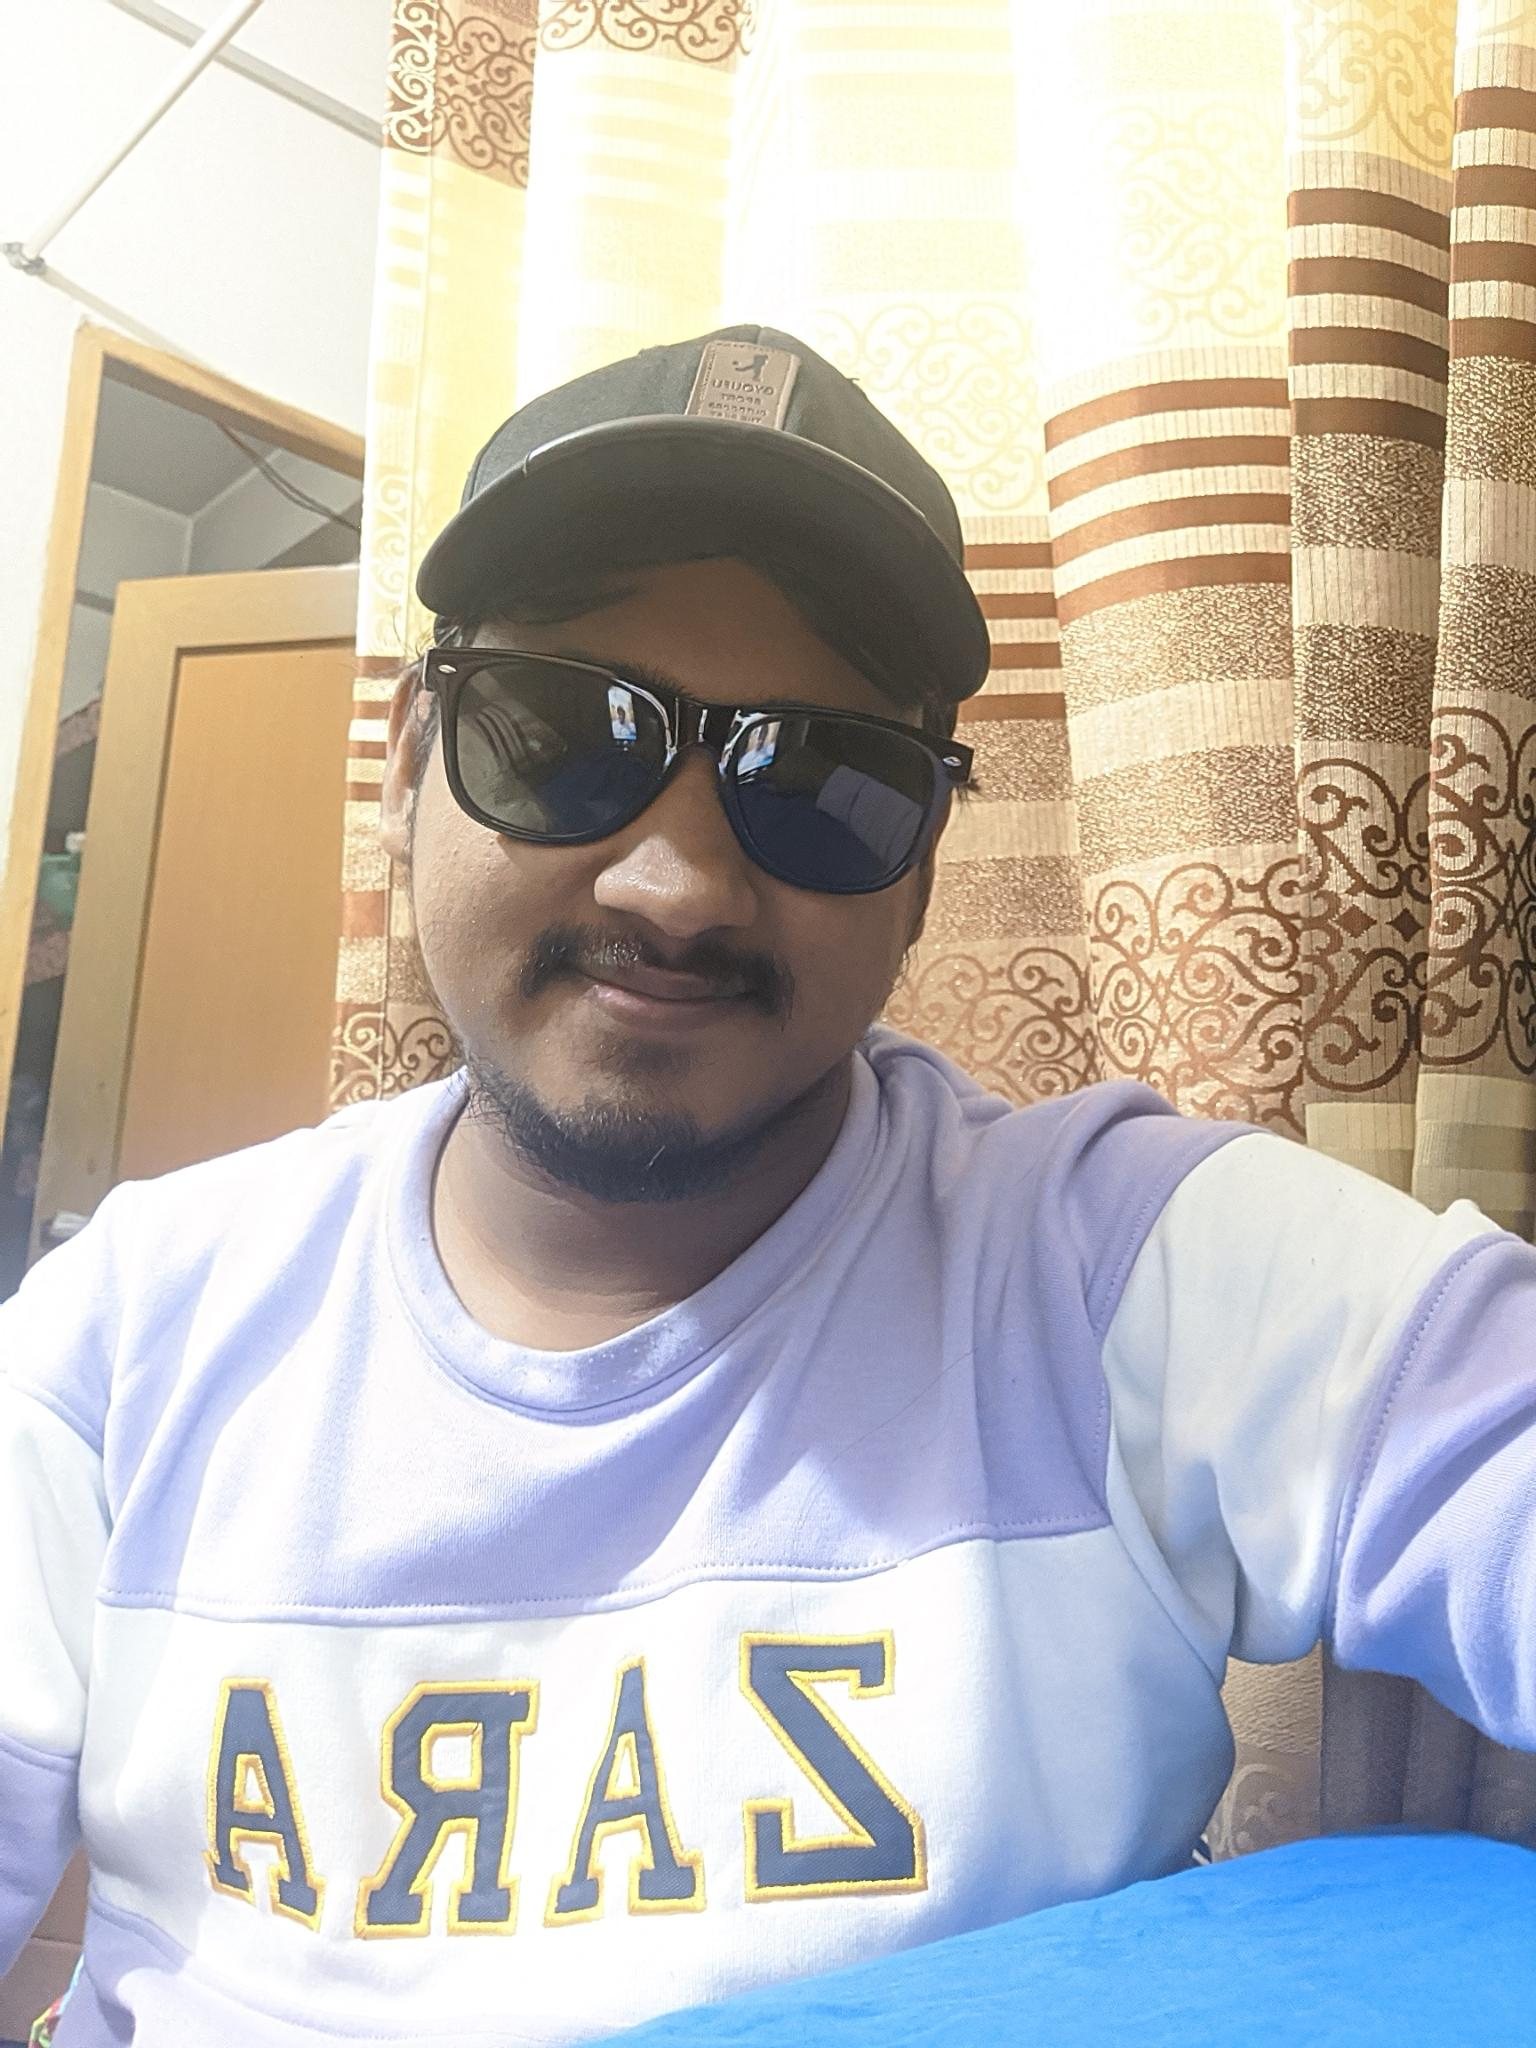Happy: (424, 579, 925, 1184)
